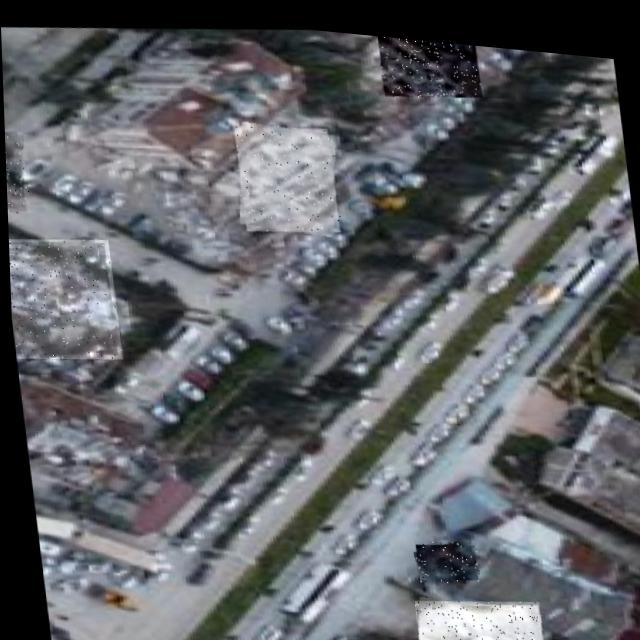Rubble: (7, 230, 118, 366), (228, 111, 341, 236), (409, 581, 539, 640), (376, 28, 481, 95), (408, 528, 475, 579), (4, 129, 28, 215)
